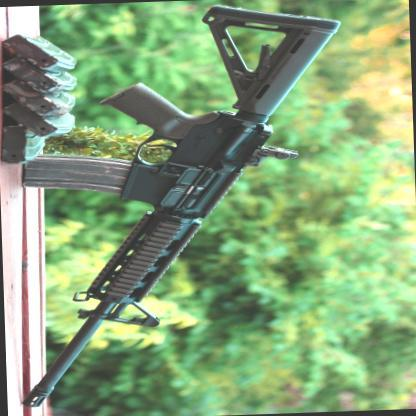rifle: (2, 1, 371, 407)
